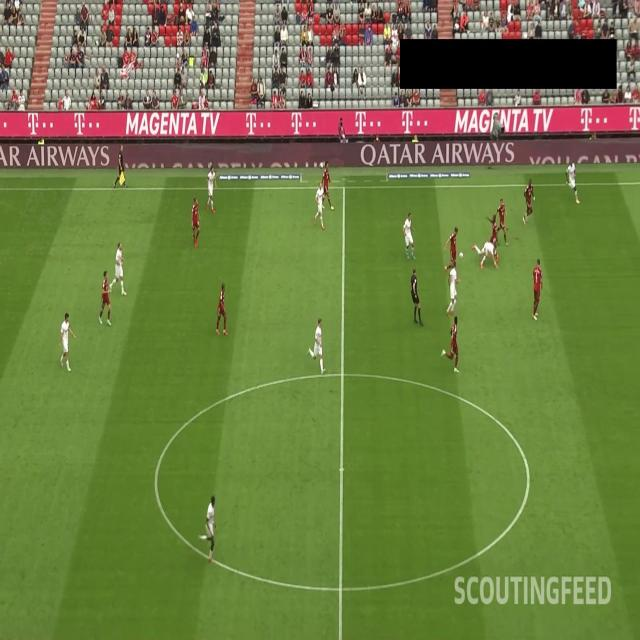ball: (456, 248, 465, 263)
player: (196, 494, 219, 568), (56, 310, 77, 377), (439, 314, 461, 375), (307, 312, 327, 378), (109, 242, 127, 300), (530, 255, 544, 322), (318, 160, 336, 212), (214, 276, 229, 338), (564, 156, 582, 207), (470, 240, 500, 270), (98, 266, 112, 328), (443, 222, 458, 278), (520, 175, 536, 226), (494, 196, 510, 246), (445, 260, 459, 316), (486, 209, 500, 263), (402, 210, 416, 261), (312, 180, 326, 231), (204, 166, 218, 215), (190, 191, 200, 248)
referee: (409, 264, 424, 328), (112, 143, 130, 191)
